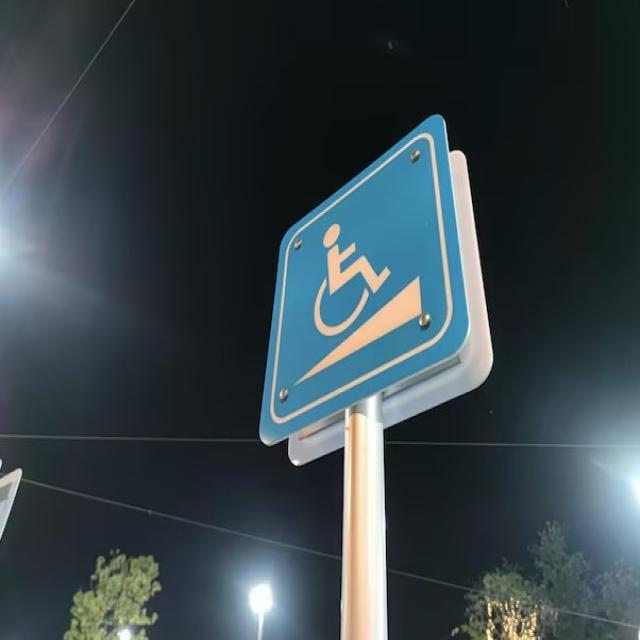symbol_of_access: (255, 110, 473, 446)
